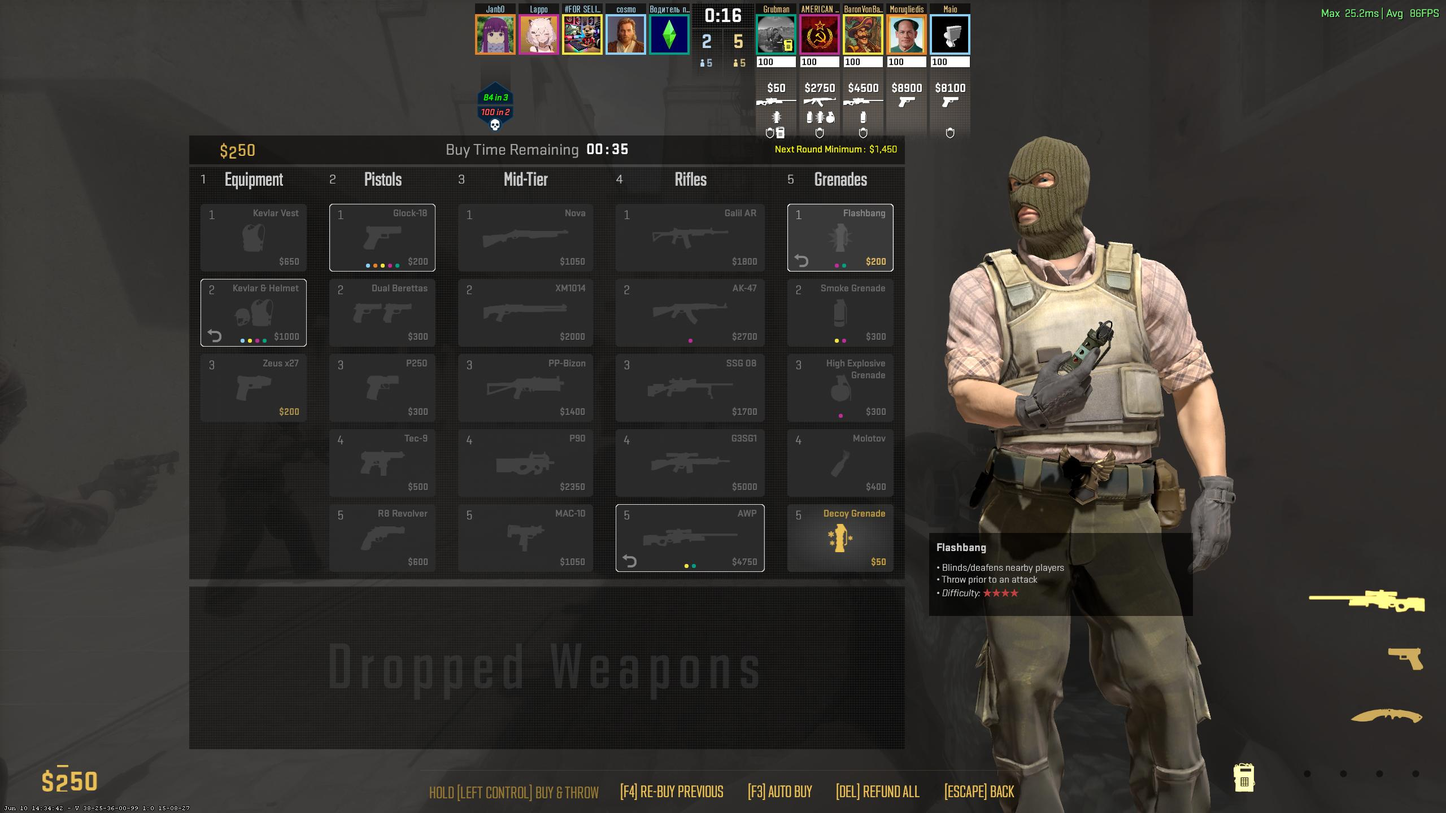Terrorist: (947, 137, 1227, 808)
